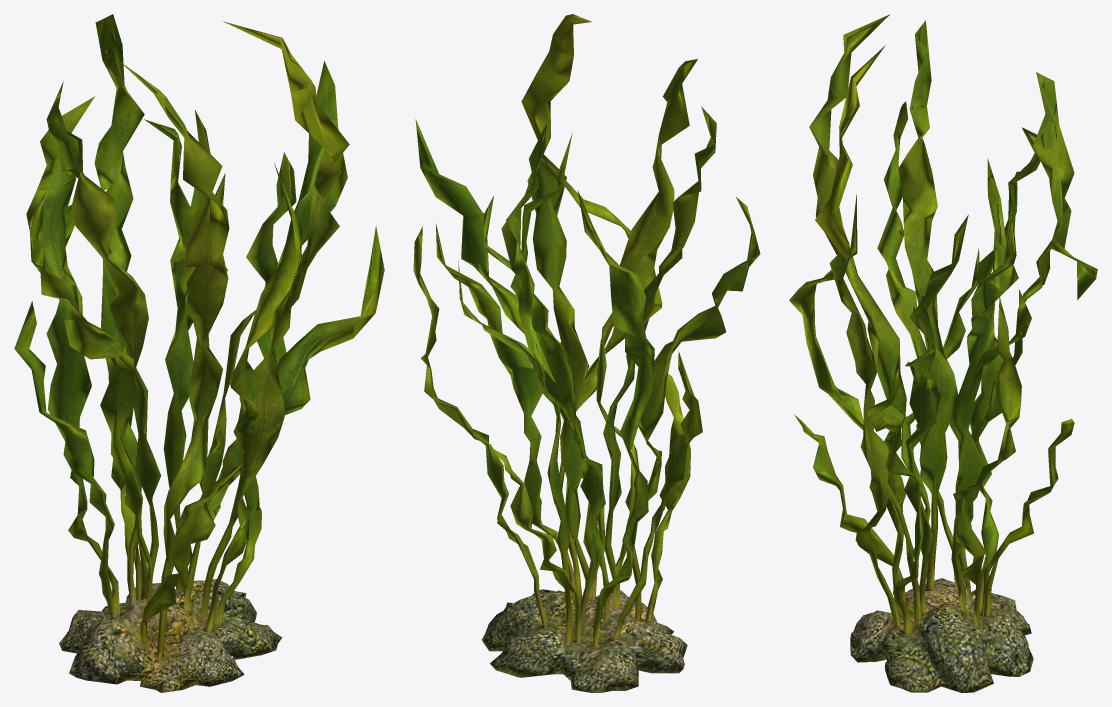
The model's file is Seaweed.obj.
The picture shows the model from 3 angles, left to right: view 1: azimuth 30°, elevation 25°; view 2: azimuth 150°, elevation 25°; view 3: azimuth 270°, elevation 25°; orthographic projection. The views are drawn at different scales.
Size of the model in its own units: 0.5673 by 1 by 0.4553.
Materials: 1 (1 with a texture image).
